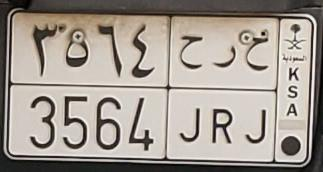3: (28, 23, 61, 149)
4: (128, 23, 156, 151)
5: (61, 34, 91, 150)
6: (94, 24, 122, 150)
J: (243, 37, 270, 145), (178, 34, 204, 143)
R: (211, 45, 237, 145)
